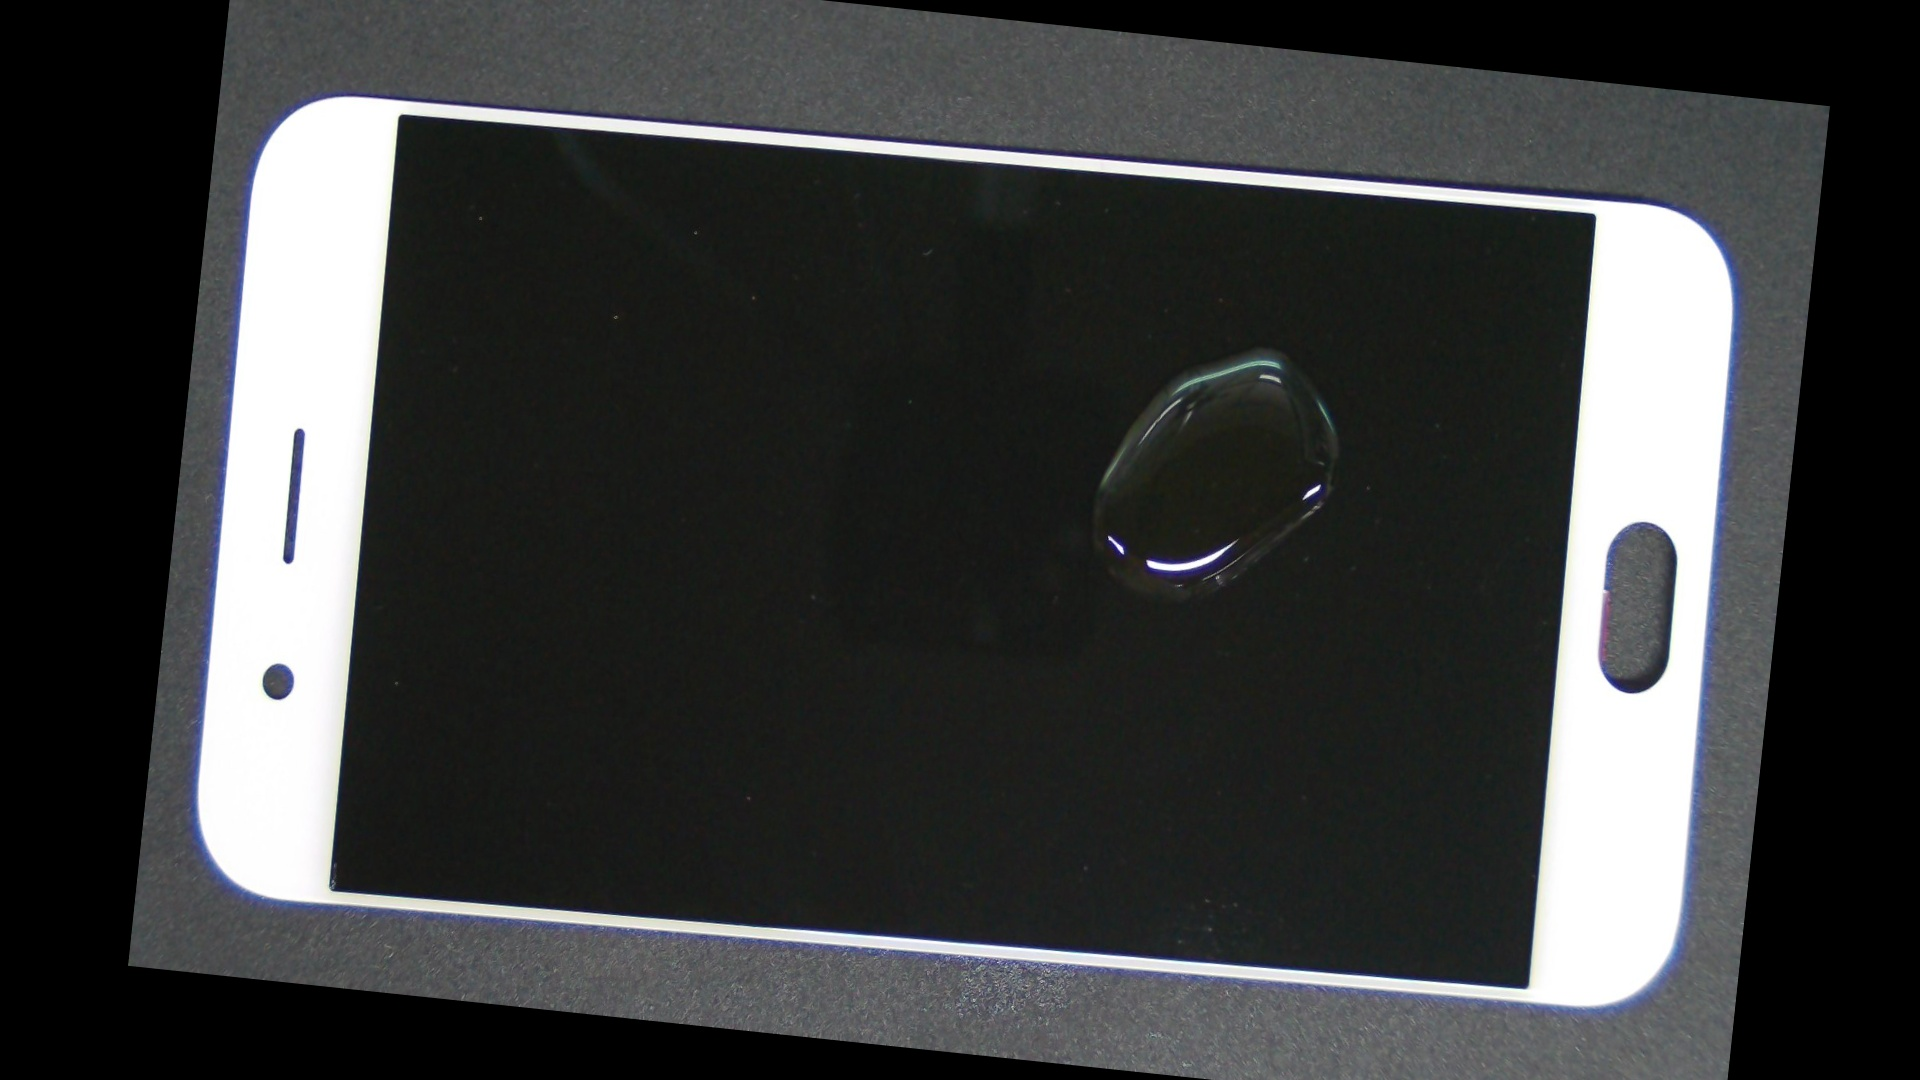oil: (721, 142, 1815, 554)
